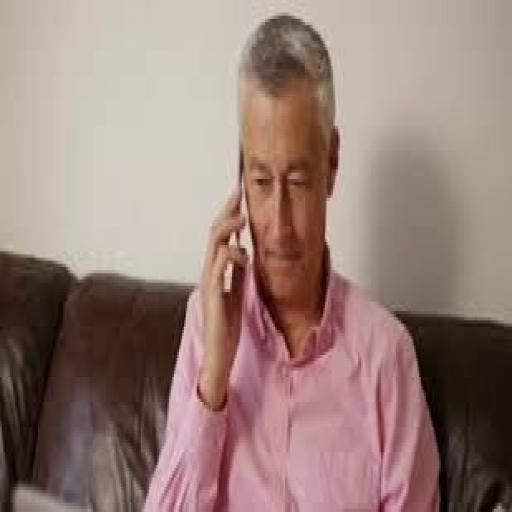calling: (140, 9, 442, 509)
